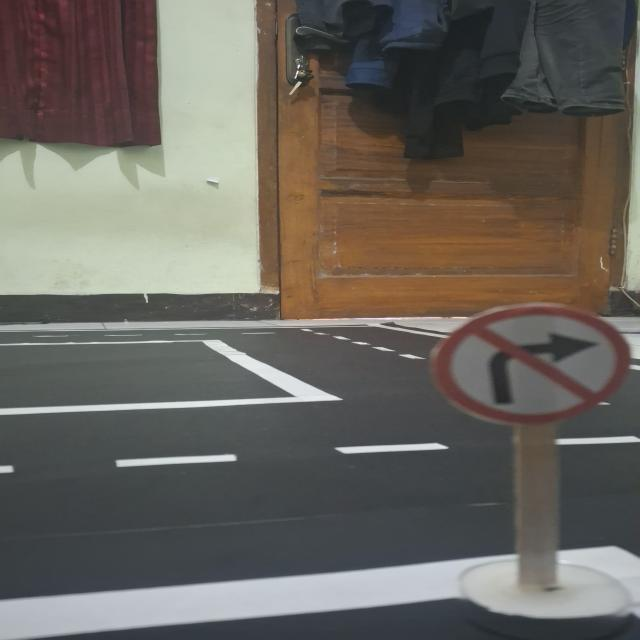Dilarang Belok Kanan: (432, 304, 632, 425)
